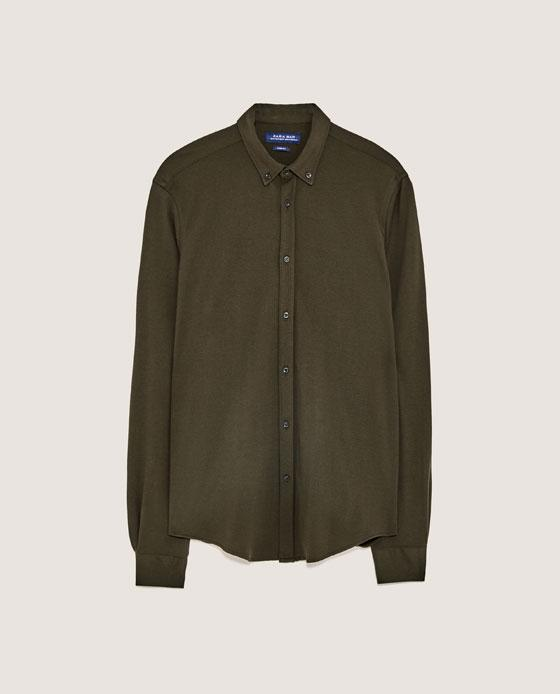teeshirt: (122, 98, 438, 621)
